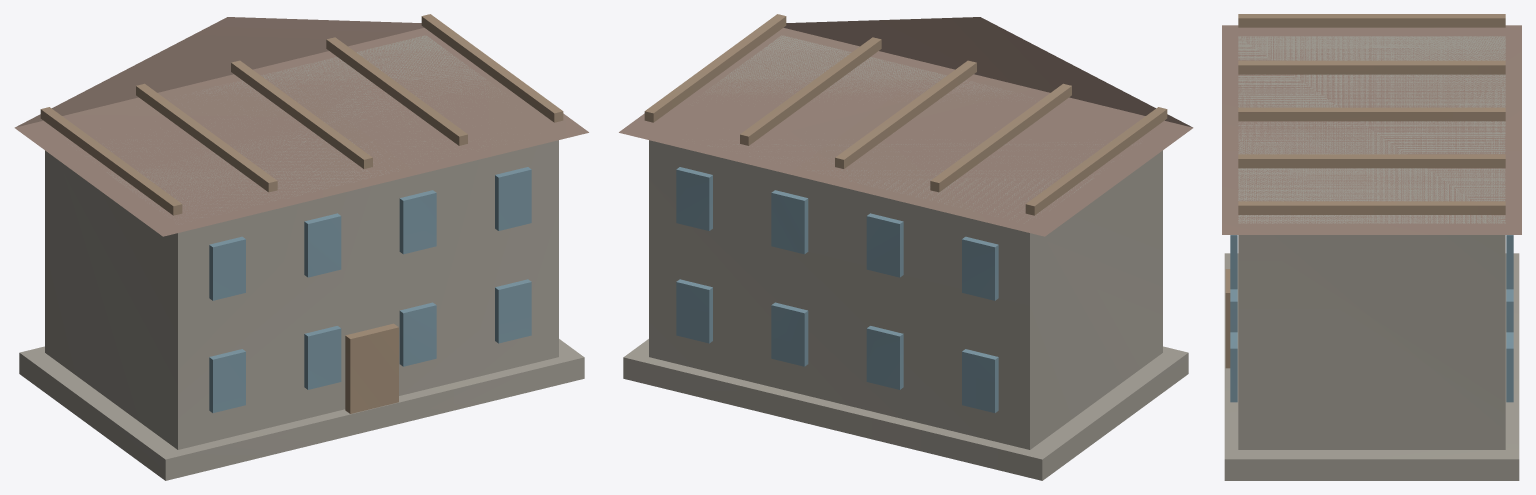
File: greenhouse-03.glb
3 views of the same model, side by side, from view 1: azimuth 30°, elevation 25°; view 2: azimuth 150°, elevation 25°; view 3: azimuth 270°, elevation 25° (orthographic).
Visible parts, largest first — view 1: world; view 2: world; view 3: world.
Part boxes in pixels (box(x1,y1,x2,y2)): world: box(14, 14, 588, 480); world: box(619, 14, 1193, 480); world: box(1222, 14, 1521, 480).
Size of the model in its own units: 1.67 by 1.14 by 1.01.
